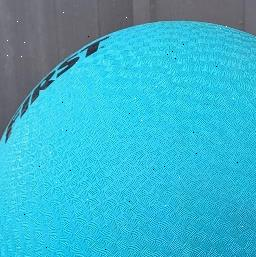algae: (0, 18, 256, 257)
